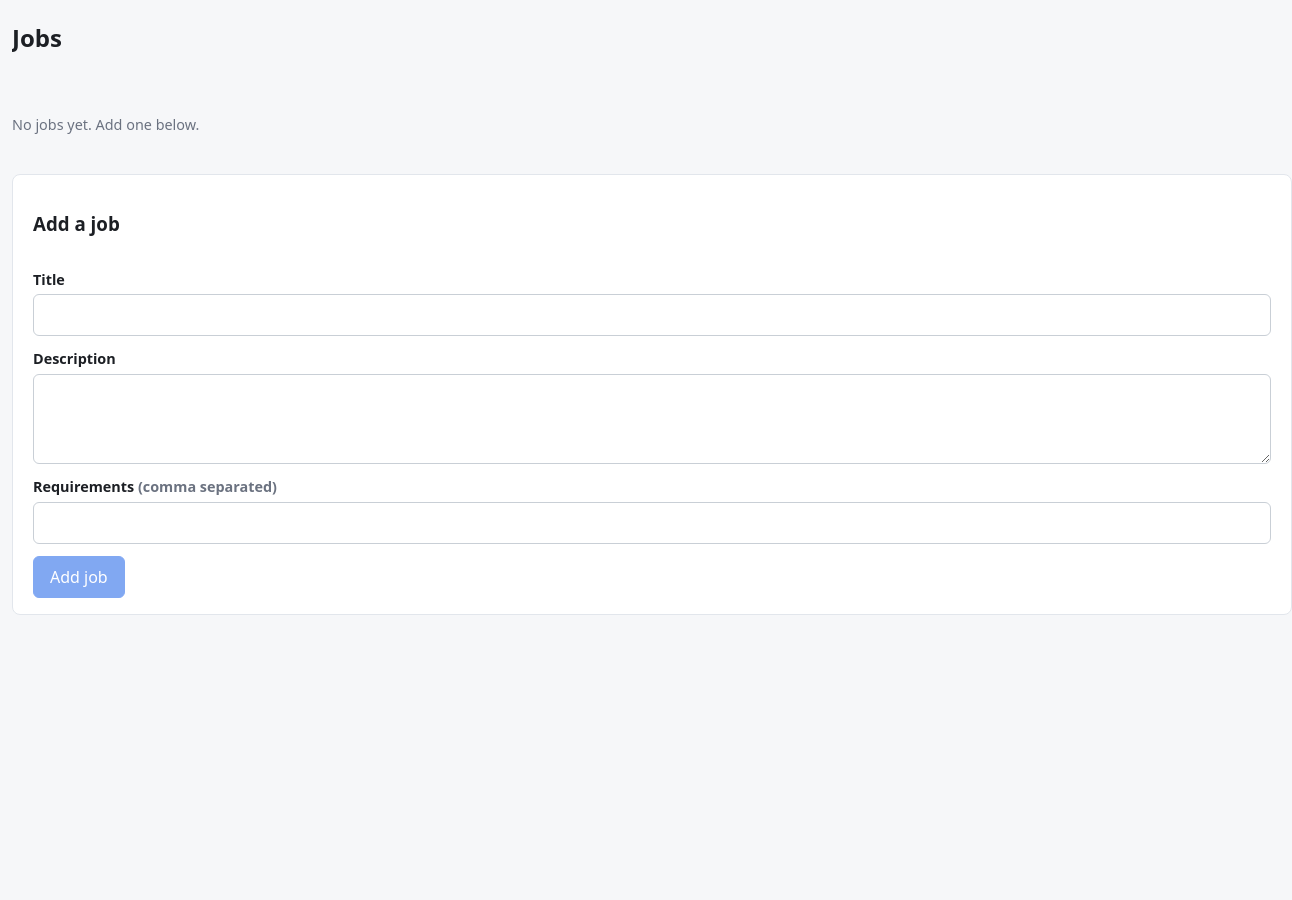
Test: JobsPage › adds a job submitted through the form to the list
Type "New Role" into the field labelled "Title" at point(652, 315), box x1=33 y1=294 x2=1271 y2=336
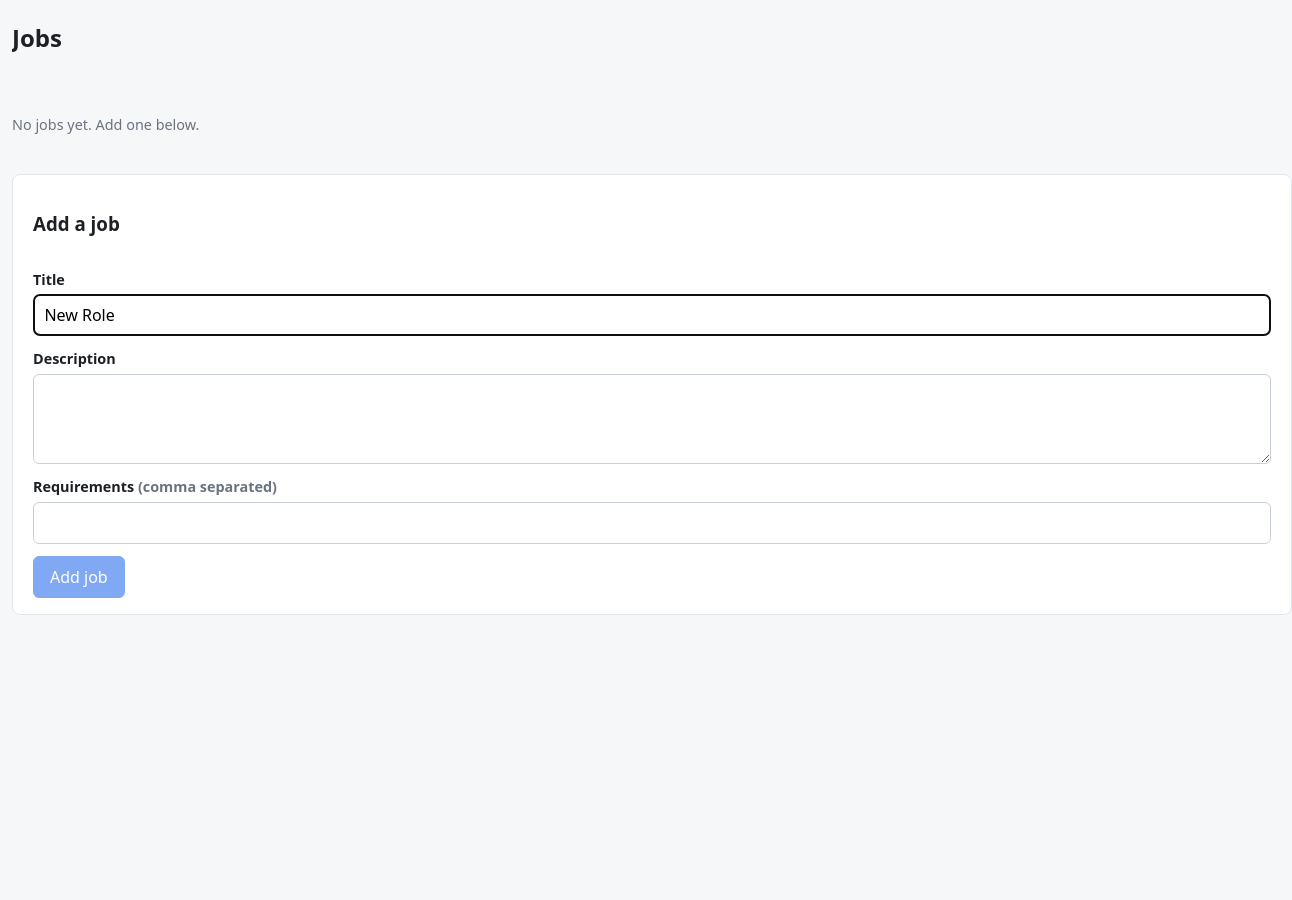
Type "A brand new role" into the text box labelled "Description" at point(652, 419), box x1=33 y1=374 x2=1271 y2=464
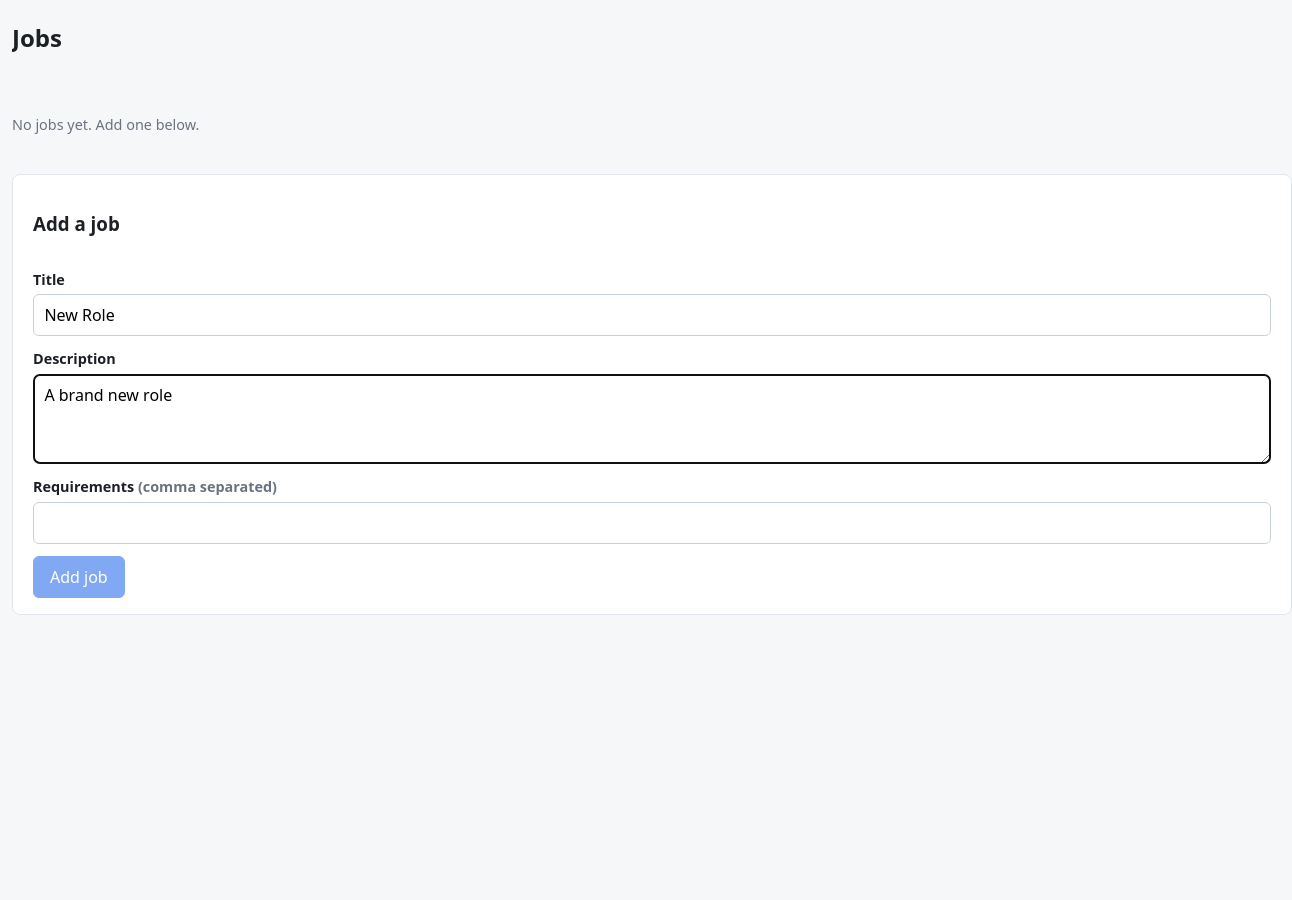
Type "React, TypeScript" into the field labelled "Requirements (comma separated)" at point(652, 522), box x1=33 y1=502 x2=1271 y2=544
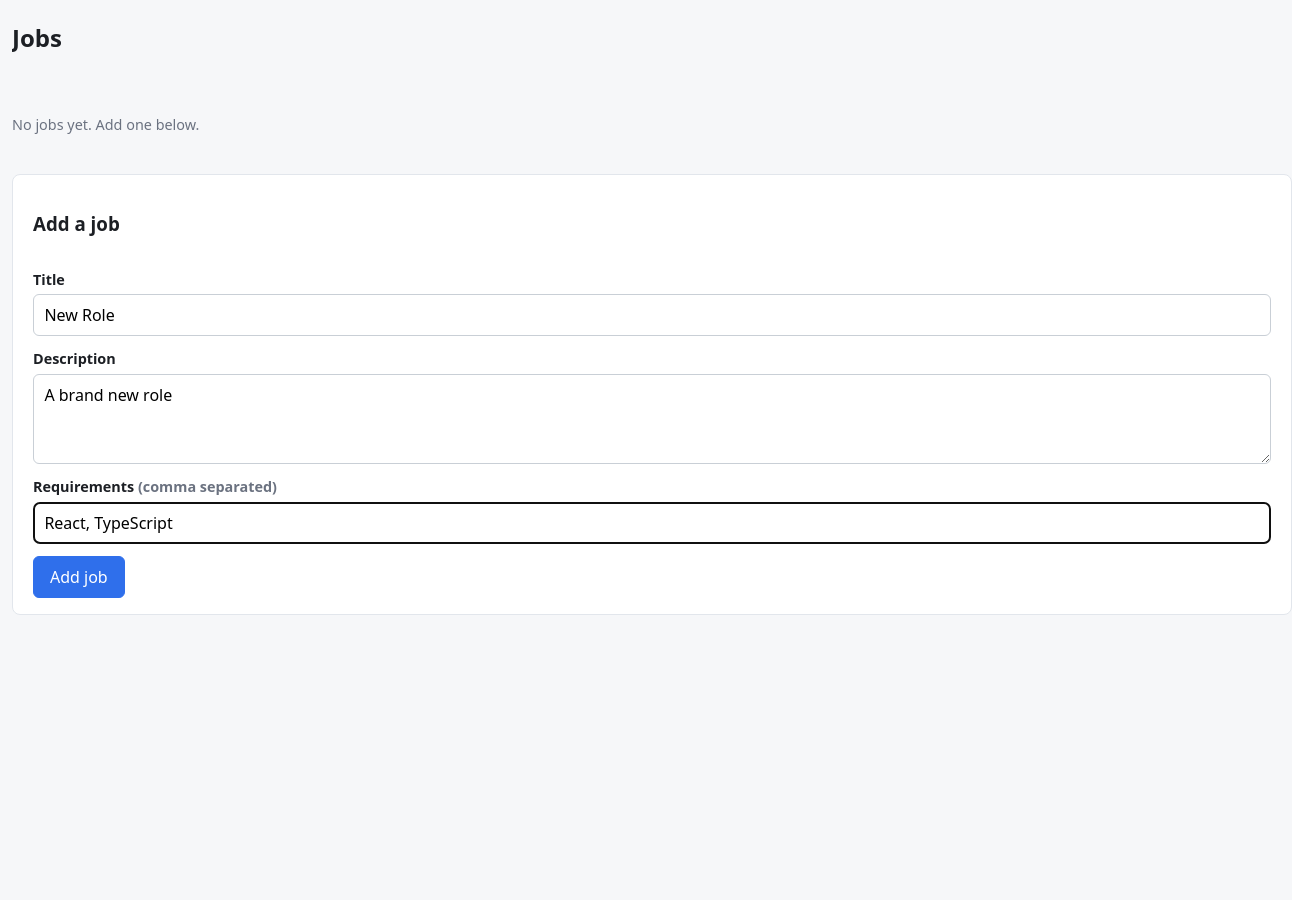
Click the button "Add job" at point(79, 576), box x1=33 y1=556 x2=125 y2=598
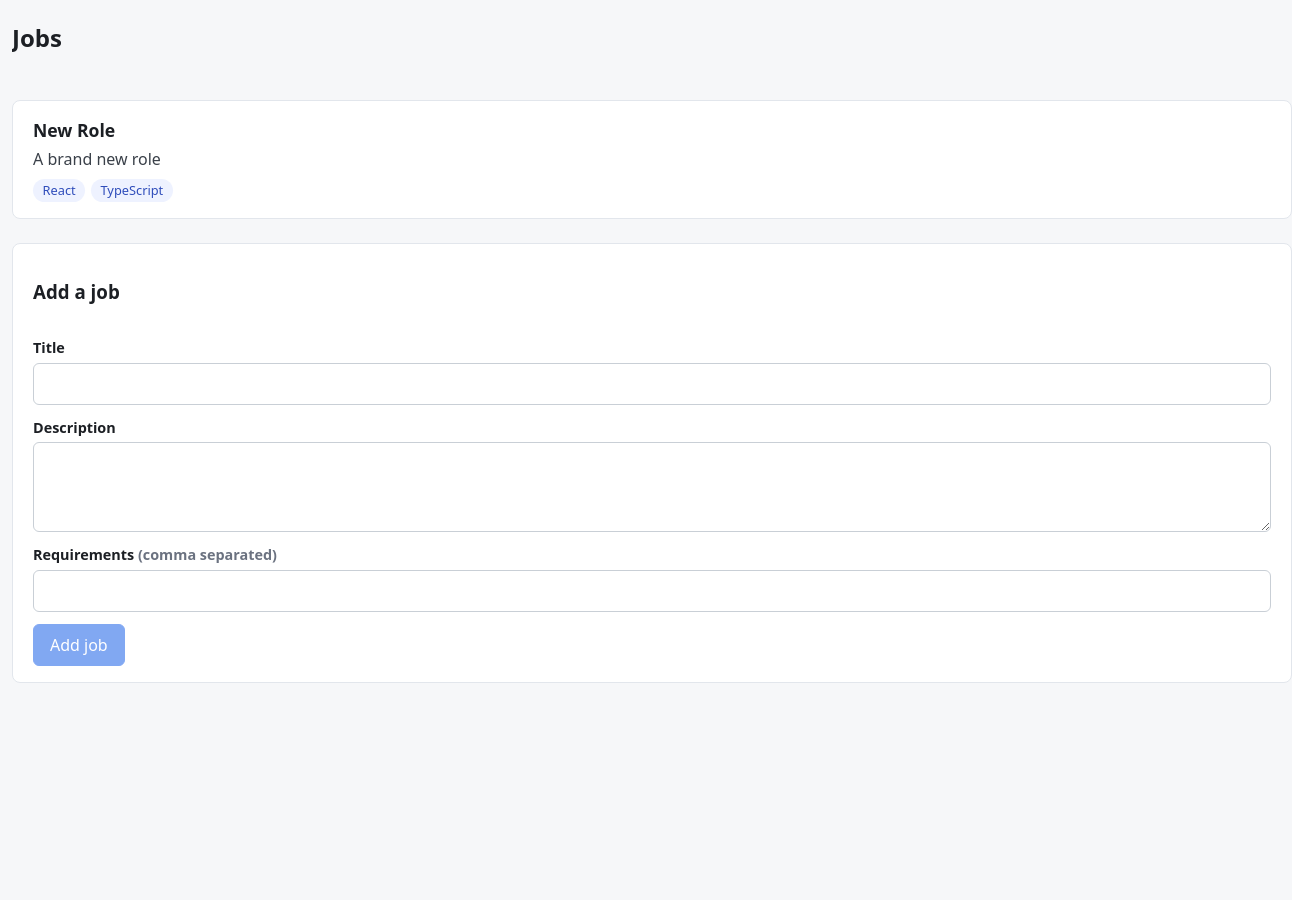
Check: the heading "New Role" is shown, box x1=33 y1=118 x2=115 y2=142
